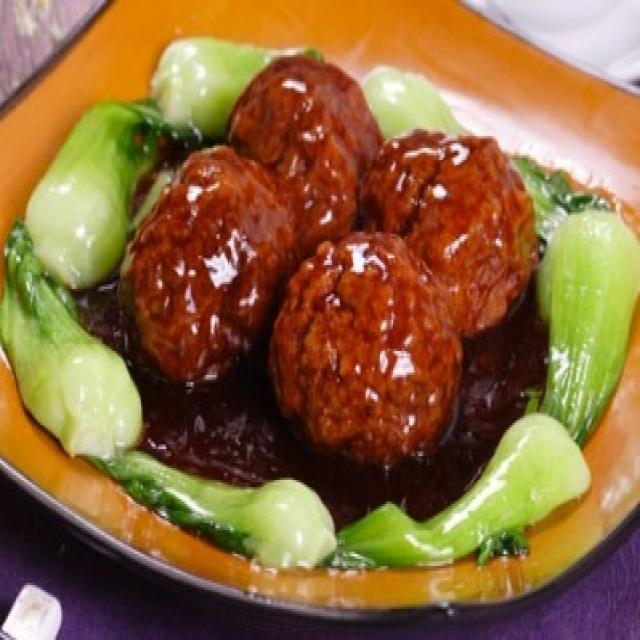meatball: (271, 224, 467, 485), (123, 134, 300, 410), (366, 112, 539, 330), (223, 45, 388, 263)
